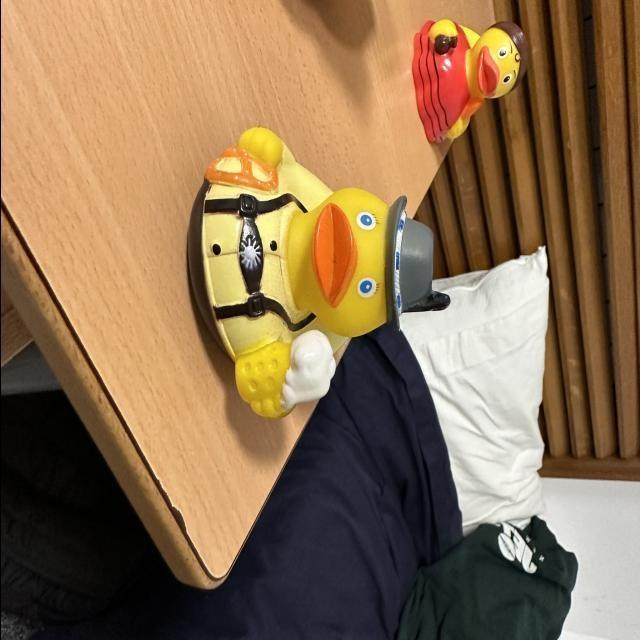rubber-duck: (187, 126, 444, 415), (411, 18, 525, 141)
